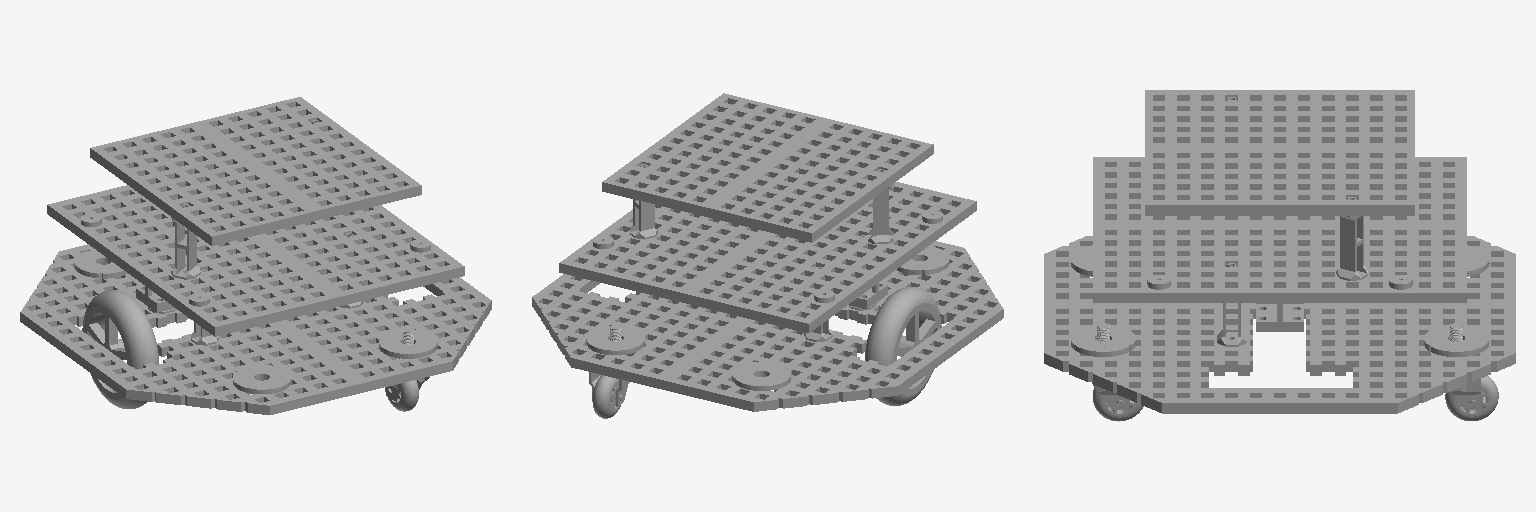
robot.urdf — XiAMS_V1:
<?xml version="1.0" ?>
<!-- =================================================================================== -->
<!-- |    This document was autogenerated by xacro from XiAMS_V1.xacro                 | -->
<!-- |    EDITING THIS FILE BY HAND IS NOT RECOMMENDED                                 | -->
<!-- =================================================================================== -->
<robot name="XiAMS_V1">
  <material name="silver">
    <color rgba="0.700 0.700 0.700 1.000"/>
  </material>
  <transmission name="Revolute 1_tran">
    <type>transmission_interface/SimpleTransmission</type>
    <joint name="Revolute 1">
      <hardwareInterface>hardware_interface/EffortJointInterface</hardwareInterface>
    </joint>
    <actuator name="Revolute 1_actr">
      <hardwareInterface>hardware_interface/EffortJointInterface</hardwareInterface>
      <mechanicalReduction>1</mechanicalReduction>
    </actuator>
  </transmission>
  <transmission name="Revolute 2_tran">
    <type>transmission_interface/SimpleTransmission</type>
    <joint name="Revolute 2">
      <hardwareInterface>hardware_interface/EffortJointInterface</hardwareInterface>
    </joint>
    <actuator name="Revolute 2_actr">
      <hardwareInterface>hardware_interface/EffortJointInterface</hardwareInterface>
      <mechanicalReduction>1</mechanicalReduction>
    </actuator>
  </transmission>
<!--   <gazebo>
    <plugin filename="libgazebo_ros_control.so" name="control"/>
  </gazebo> -->
<!--   <gazebo reference="base_link">
    <material>Gazebo/Silver</material>
    <mu1>0.2</mu1>
    <mu2>0.2</mu2>
    <selfCollide>true</selfCollide>
    <gravity>true</gravity>
  </gazebo>
  <gazebo reference="left_wheel_1">
    <material>Gazebo/Silver</material>
    <mu1>0.2</mu1>
    <mu2>0.2</mu2>
    <selfCollide>true</selfCollide>
  </gazebo>
  <gazebo reference="right_wheel_1">
    <material>Gazebo/Silver</material>
    <mu1>0.2</mu1>
    <mu2>0.2</mu2>
    <selfCollide>true</selfCollide>
  </gazebo>
  <gazebo reference="right_motor_1">
    <material>Gazebo/Silver</material>  
    <mu1>0.2</mu1>
    <mu2>0.2</mu2>
    <selfCollide>true</selfCollide>
  </gazebo>
  <gazebo reference="left_motor_1">
    <material>Gazebo/Silver</material>
    <mu1>0.2</mu1>
    <mu2>0.2</mu2>
    <selfCollide>true</selfCollide>
  </gazebo> -->
<!--     <link name="map"/>
  <joint name="map_joint" type="fixed">
    <parent link="map"/>
    <child link="odom"/>
    <origin rpy="0 0 0" xyz="0.0 0.0 0.0"/>
  </joint> -->
  <!-- <link name="odom"/>
  <joint name="odom_joint" type="fixed">
    <parent link="odom"/>
    <child link="base_footprint"/>
    <origin rpy="0 0 0" xyz="0.0 0.0 0.0"/>
  </joint> -->
  <link name="base_footprint"/>
  <joint name="base_joint" type="fixed">
    <parent link="base_footprint"/>
    <child link="base_link"/>
    <origin rpy="0 0 0" xyz="0.0 0.0 0.05"/>
  </joint>
   <link name="imu_link"/>
  <joint name="imu_joint" type="fixed">
    <parent link="base_link"/>
    <child link="imu_link"/>
    <origin rpy="0 0 0" xyz="0.0 0.0 0.05"/>
  </joint>
  <!-- <link name="lidar_link_1"/>
  <joint name="lidar_joint" type="fixed">
    <parent link="base_link2_1"/>
    <child link="lidar_link_1"/>
    <origin rpy="0 0 0" xyz="0.0 0.0 0.045"/>
  </joint> -->
  <link name="base_link">
    <inertial>
      <origin rpy="0 0 0" xyz="-1.2122057928679926e-16 -5.497357486465651e-05 0.010376885485705058"/>
      <mass value="7.067644900814269"/>
      <inertia ixx="0.093666" ixy="0.0" ixz="-0.0" iyy="0.075527" iyz="-0.0" izz="0.169042"/>
    </inertial>
    <visual>
      <origin rpy="0 0 0" xyz="0 0 0"/>
      <geometry>
        <mesh filename="package://two_wheeled_robot/meshes/base_link.stl" scale="0.001 0.001 0.001"/>
      </geometry>
      <material name="silver"/>
    </visual>
    <collision>
      <origin rpy="0 0 0" xyz="0 0 0"/>
      <geometry>
        <mesh filename="package://two_wheeled_robot/meshes/base_link.stl" scale="0.001 0.001 0.001"/>
      </geometry>
    </collision>
  </link>
  <link name="left_wheel_1">
    <inertial>
      <origin rpy="0 0 0" xyz="-0.010316984778108496 -2.131945403625303e-15 1.734723475976807e-17"/>
      <mass value="1.2911020276896104"/>
      <inertia ixx="0.002581" ixy="0.0" ixz="0.0" iyy="0.001382" iyz="0.0" izz="0.001382"/>
    </inertial>
    <visual>
      <origin rpy="0 0 0" xyz="0.1379 -0.0 -0.004"/>
      <geometry>
        <mesh filename="package://two_wheeled_robot/meshes/left_wheel_1.stl" scale="0.001 0.001 0.001"/>
      </geometry>
      <material name="silver"/>
    </visual>
    <collision>
      <origin rpy="0 0 0" xyz="0.1379 -0.0 -0.004"/>
      <geometry>
        <mesh filename="package://two_wheeled_robot/meshes/left_wheel_1.stl" scale="0.001 0.001 0.001"/>
      </geometry>
    </collision>
  </link>
  <link name="right_wheel_1">
    <inertial>
      <origin rpy="0 0 0" xyz="0.010316984778108551 2.16747250653199e-15 3.729655473350135e-17"/>
      <mass value="1.2911020276896104"/>
      <inertia ixx="0.002581" ixy="0.0" ixz="-0.0" iyy="0.001382" iyz="-0.0" izz="0.001382"/>
    </inertial>
    <visual>
      <origin rpy="0 0 0" xyz="-0.1379 -0.0 -0.004"/>
      <geometry>
        <mesh filename="package://two_wheeled_robot/meshes/right_wheel_1.stl" scale="0.001 0.001 0.001"/>
      </geometry>
      <material name="silver"/>
    </visual>
    <collision>
      <origin rpy="0 0 0" xyz="-0.1379 -0.0 -0.004"/>
      <geometry>
        <mesh filename="package://two_wheeled_robot/meshes/right_wheel_1.stl" scale="0.001 0.001 0.001"/>
      </geometry>
    </collision>
  </link>
  <link name="right_motor_1">
    <inertial>
      <origin rpy="0 0 0" xyz="0.06241474724398801 -1.1016991190206776e-06 -0.003760243066514766"/>
      <mass value="0.8778384692401996"/>
      <inertia ixx="0.000207" ixy="0.0" ixz="-6.5e-05" iyy="0.000915" iyz="0.0" izz="0.000858"/>
    </inertial>
    <visual>
      <origin rpy="0 0 0" xyz="-0.01 -0.0 -0.01"/>
      <geometry>
        <mesh filename="package://two_wheeled_robot/meshes/right_motor_1.stl" scale="0.001 0.001 0.001"/>
      </geometry>
      <material name="silver"/>
    </visual>
    <collision>
      <origin rpy="0 0 0" xyz="-0.01 -0.0 -0.01"/>
      <geometry>
        <mesh filename="package://two_wheeled_robot/meshes/right_motor_1.stl" scale="0.001 0.001 0.001"/>
      </geometry>
    </collision>
  </link>
  <link name="left_motor_1">
    <inertial>
      <origin rpy="0 0 0" xyz="-0.062414747243987996 1.101699119055656e-06 -0.003760243066514766"/>
      <mass value="0.8778384692401996"/>
      <inertia ixx="0.000207" ixy="0.0" ixz="6.5e-05" iyy="0.000915" iyz="-0.0" izz="0.000858"/>
    </inertial>
    <visual>
      <origin rpy="0 0 0" xyz="0.01 -0.0 -0.01"/>
      <geometry>
        <mesh filename="package://two_wheeled_robot/meshes/left_motor_1.stl" scale="0.001 0.001 0.001"/>
      </geometry>
      <material name="silver"/>
    </visual>
    <collision>
      <origin rpy="0 0 0" xyz="0.01 -0.0 -0.01"/>
      <geometry>
        <mesh filename="package://two_wheeled_robot/meshes/left_motor_1.stl" scale="0.001 0.001 0.001"/>
      </geometry>
    </collision>
  </link>
  <link name="sup_wheel_2_1">
    <inertial>
      <origin rpy="0 0 0" xyz="0.00724739238935411 -0.010120109660515852 -0.02715206764557417"/>
      <mass value="0.2827684462745871"/>
      <inertia ixx="0.000143" ixy="0.0" ixz="1e-06" iyy="0.000126" iyz="2.7e-05" izz="5.7e-05"/>
    </inertial>
    <visual>
      <origin rpy="0 0 0" xyz="-0.073333 -0.168856 -0.005"/>
      <geometry>
        <mesh filename="package://two_wheeled_robot/meshes/sup_wheel_2_1.stl" scale="0.001 0.001 0.001"/>
      </geometry>
      <material name="silver"/>
    </visual>
    <collision>
      <origin rpy="0 0 0" xyz="-0.073333 -0.168856 -0.005"/>
      <geometry>
        <mesh filename="package://two_wheeled_robot/meshes/sup_wheel_2_1.stl" scale="0.001 0.001 0.001"/>
      </geometry>
    </collision>
  </link>
  <link name="sup_wheel_1_1">
    <inertial>
      <origin rpy="0 0 0" xyz="0.02039356631856591 0.004831947677011422 -0.027152067645574162"/>
      <mass value="0.2827684462745871"/>
      <inertia ixx="0.000143" ixy="0.0" ixz="1e-06" iyy="0.000126" iyz="2.7e-05" izz="5.7e-05"/>
    </inertial>
    <visual>
      <origin rpy="0 0 0" xyz="0.099579 -0.154083 -0.005"/>
      <geometry>
        <mesh filename="package://two_wheeled_robot/meshes/sup_wheel_1_1.stl" scale="0.001 0.001 0.001"/>
      </geometry>
      <material name="silver"/>
    </visual>
    <collision>
      <origin rpy="0 0 0" xyz="0.099579 -0.154083 -0.005"/>
      <geometry>
        <mesh filename="package://two_wheeled_robot/meshes/sup_wheel_1_1.stl" scale="0.001 0.001 0.001"/>
      </geometry>
    </collision>
  </link>
  <link name="sup_wheel_3_1">
    <inertial>
      <origin rpy="0 0 0" xyz="0.000862792672768703 0.008679037903527004 -0.02715206764557417"/>
      <mass value="0.2827684462745871"/>
      <inertia ixx="0.000143" ixy="0.0" ixz="1e-06" iyy="0.000126" iyz="2.7e-05" izz="5.7e-05"/>
    </inertial>
    <visual>
      <origin rpy="0 0 0" xyz="0.08 0.15 -0.005"/>
      <geometry>
        <mesh filename="package://two_wheeled_robot/meshes/sup_wheel_3_1.stl" scale="0.001 0.001 0.001"/>
      </geometry>
      <material name="silver"/>
    </visual>
    <collision>
      <origin rpy="0 0 0" xyz="0.08 0.15 -0.005"/>
      <geometry>
        <mesh filename="package://two_wheeled_robot/meshes/sup_wheel_3_1.stl" scale="0.001 0.001 0.001"/>
      </geometry>
    </collision>
  </link>
  <link name="sup_wheel_4_1">
    <inertial>
      <origin rpy="0 0 0" xyz="0.000716440208126376 0.009226546426515103 -0.02715206764557417"/>
      <mass value="0.2827684462745871"/>
      <inertia ixx="0.000143" ixy="0.0" ixz="1e-06" iyy="0.000126" iyz="2.7e-05" izz="5.7e-05"/>
    </inertial>
    <visual>
      <origin rpy="0 0 0" xyz="-0.08 0.15 -0.005"/>
      <geometry>
        <mesh filename="package://two_wheeled_robot/meshes/sup_wheel_4_1.stl" scale="0.001 0.001 0.001"/>
      </geometry>
      <material name="silver"/>
    </visual>
    <collision>
      <origin rpy="0 0 0" xyz="-0.08 0.15 -0.005"/>
      <geometry>
        <mesh filename="package://two_wheeled_robot/meshes/sup_wheel_4_1.stl" scale="0.001 0.001 0.001"/>
      </geometry>
    </collision>
  </link>
  <link name="column_1_1">
    <inertial>
      <origin rpy="0 0 0" xyz="0.005150943149875242 0.00029975860448801933 0.032999999999999814"/>
      <mass value="0.06713817165430098"/>
      <inertia ixx="3.8e-05" ixy="-0.0" ixz="0.0" iyy="3.7e-05" iyz="-0.0" izz="5e-06"/>
    </inertial>
    <visual>
      <origin rpy="0 0 0" xyz="-0.073333 0.041053 -0.015"/>
      <geometry>
        <mesh filename="package://two_wheeled_robot/meshes/column_1_1.stl" scale="0.001 0.001 0.001"/>
      </geometry>
      <material name="silver"/>
    </visual>
    <collision>
      <origin rpy="0 0 0" xyz="-0.073333 0.041053 -0.015"/>
      <geometry>
        <mesh filename="package://two_wheeled_robot/meshes/column_1_1.stl" scale="0.001 0.001 0.001"/>
      </geometry>
    </collision>
  </link>
  <link name="column_2_1">
    <inertial>
      <origin rpy="0 0 0" xyz="-0.006043277250849216 0.00017198325512216006 0.030999999999999812"/>
      <mass value="0.06713817165430098"/>
      <inertia ixx="3.8e-05" ixy="-0.0" ixz="0.0" iyy="3.7e-05" iyz="-0.0" izz="5e-06"/>
    </inertial>
    <visual>
      <origin rpy="0 0 0" xyz="0.073333 0.041053 -0.015"/>
      <geometry>
        <mesh filename="package://two_wheeled_robot/meshes/column_2_1.stl" scale="0.001 0.001 0.001"/>
      </geometry>
      <material name="silver"/>
    </visual>
    <collision>
      <origin rpy="0 0 0" xyz="0.073333 0.041053 -0.015"/>
      <geometry>
        <mesh filename="package://two_wheeled_robot/meshes/column_2_1.stl" scale="0.001 0.001 0.001"/>
      </geometry>
    </collision>
  </link>
  <link name="column_3_1">
    <inertial>
      <origin rpy="0 0 0" xyz="-1.0459630267536935e-05 -0.015181423914343836 0.030999999999999812"/>
      <mass value="0.06713817165430098"/>
      <inertia ixx="3.8e-05" ixy="0.0" ixz="0.0" iyy="3.7e-05" iyz="-0.0" izz="5e-06"/>
    </inertial>
    <visual>
      <origin rpy="0 0 0" xyz="0.078889 -0.056316 -0.015"/>
      <geometry>
        <mesh filename="package://two_wheeled_robot/meshes/column_3_1.stl" scale="0.001 0.001 0.001"/>
      </geometry>
      <material name="silver"/>
    </visual>
    <collision>
      <origin rpy="0 0 0" xyz="0.078889 -0.056316 -0.015"/>
      <geometry>
        <mesh filename="package://two_wheeled_robot/meshes/column_3_1.stl" scale="0.001 0.001 0.001"/>
      </geometry>
    </collision>
  </link>
  <link name="column_4_1">
    <inertial>
      <origin rpy="0 0 0" xyz="-0.005999555555578892 -3.684210526447296e-07 0.030999999999999812"/>
      <mass value="0.06713817165430098"/>
      <inertia ixx="3.8e-05" ixy="-0.0" ixz="0.0" iyy="3.7e-05" iyz="-0.0" izz="5e-06"/>
    </inertial>
    <visual>
      <origin rpy="0 0 0" xyz="-0.084444 -0.041053 -0.015"/>
      <geometry>
        <mesh filename="package://two_wheeled_robot/meshes/column_4_1.stl" scale="0.001 0.001 0.001"/>
      </geometry>
      <material name="silver"/>
    </visual>
    <collision>
      <origin rpy="0 0 0" xyz="-0.084444 -0.041053 -0.015"/>
      <geometry>
        <mesh filename="package://two_wheeled_robot/meshes/column_4_1.stl" scale="0.001 0.001 0.001"/>
      </geometry>
    </collision>
  </link>
  <link name="base_link2_1">
    <inertial>
      <origin rpy="0 0 0" xyz="1.5416149327040268e-06 -7.385320557817198e-08 0.0644033025552961"/>
      <mass value="6.703012617628762"/>
      <inertia ixx="0.045857" ixy="0.0" ixz="0.0" iyy="0.040773" iyz="-0.0" izz="0.085176"/>
    </inertial>
    <visual>
      <origin rpy="0 0 0" xyz="-0.0 -0.0 -0.015"/>
      <geometry>
        <mesh filename="package://two_wheeled_robot/meshes/base_link2_1.stl" scale="0.001 0.001 0.001"/>
      </geometry>
      <material name="silver"/>
    </visual>
    <collision>
      <origin rpy="0 0 0" xyz="-0.0 -0.0 -0.015"/>
      <geometry>
        <mesh filename="package://two_wheeled_robot/meshes/base_link2_1.stl" scale="0.001 0.001 0.001"/>
      </geometry>
    </collision>
  </link>
  <link name="column_5_1">
    <inertial>
      <origin rpy="0 0 0" xyz="0.048050222222234255 0.0002503684210331328 -0.04300000000000004"/>
      <mass value="0.06861920498763414"/>
      <inertia ixx="3.8e-05" ixy="-0.0" ixz="0.0" iyy="3.9e-05" iyz="0.0" izz="5e-06"/>
    </inertial>
    <visual>
      <origin rpy="0 0 0" xyz="-0.052222 0.041053 -0.163"/>
      <geometry>
        <mesh filename="package://two_wheeled_robot/meshes/column_5_1.stl" scale="0.001 0.001 0.001"/>
      </geometry>
      <material name="silver"/>
    </visual>
    <collision>
      <origin rpy="0 0 0" xyz="-0.052222 0.041053 -0.163"/>
      <geometry>
        <mesh filename="package://two_wheeled_robot/meshes/column_5_1.stl" scale="0.001 0.001 0.001"/>
      </geometry>
    </collision>
  </link>
  <link name="column_6_1">
    <inertial>
      <origin rpy="0 0 0" xyz="-0.0424497777777972 -0.00490047368422257 -0.04300000000000004"/>
      <mass value="0.06861920498763414"/>
      <inertia ixx="3.9e-05" ixy="0.0" ixz="0.0" iyy="3.8e-05" iyz="-0.0" izz="5e-06"/>
    </inertial>
    <visual>
      <origin rpy="0 0 0" xyz="0.057778 0.035789 -0.163"/>
      <geometry>
        <mesh filename="package://two_wheeled_robot/meshes/column_6_1.stl" scale="0.001 0.001 0.001"/>
      </geometry>
      <material name="silver"/>
    </visual>
    <collision>
      <origin rpy="0 0 0" xyz="0.057778 0.035789 -0.163"/>
      <geometry>
        <mesh filename="package://two_wheeled_robot/meshes/column_6_1.stl" scale="0.001 0.001 0.001"/>
      </geometry>
    </collision>
  </link>
  <link name="column_7_1">
    <inertial>
      <origin rpy="0 0 0" xyz="0.042514934933003394 0.015040063199609752 -0.043000000000000094"/>
      <mass value="0.06713817165430098"/>
      <inertia ixx="3.7e-05" ixy="0.0" ixz="0.0" iyy="3.7e-05" iyz="-0.0" izz="5e-06"/>
    </inertial>
    <visual>
      <origin rpy="0 0 0" xyz="-0.057778 -0.046316 -0.163"/>
      <geometry>
        <mesh filename="package://two_wheeled_robot/meshes/column_7_1.stl" scale="0.001 0.001 0.001"/>
      </geometry>
      <material name="silver"/>
    </visual>
    <collision>
      <origin rpy="0 0 0" xyz="-0.057778 -0.046316 -0.163"/>
      <geometry>
        <mesh filename="package://two_wheeled_robot/meshes/column_7_1.stl" scale="0.001 0.001 0.001"/>
      </geometry>
    </collision>
  </link>
  <link name="column_8_1">
    <inertial>
      <origin rpy="0 0 0" xyz="-0.03628574207457701 6.19714320574602e-05 -0.043000000000000094"/>
      <mass value="0.06713817165430098"/>
      <inertia ixx="3.7e-05" ixy="-0.0" ixz="0.0" iyy="3.7e-05" iyz="-0.0" izz="5e-06"/>
    </inertial>
    <visual>
      <origin rpy="0 0 0" xyz="0.063333 -0.061579 -0.163"/>
      <geometry>
        <mesh filename="package://two_wheeled_robot/meshes/column_8_1.stl" scale="0.001 0.001 0.001"/>
      </geometry>
      <material name="silver"/>
    </visual>
    <collision>
      <origin rpy="0 0 0" xyz="0.063333 -0.061579 -0.163"/>
      <geometry>
        <mesh filename="package://two_wheeled_robot/meshes/column_8_1.stl" scale="0.001 0.001 0.001"/>
      </geometry>
    </collision>
  </link>
  <link name="base_link3_1">
    <inertial>
      <origin rpy="0 0 0" xyz="0.0 4.0481340199487946e-17 -0.006999999999999923"/>
      <mass value="3.142708479532165"/>
      <inertia ixx="0.014068" ixy="0.0" ixz="0.0" iyy="0.01405" iyz="-0.0" izz="0.028066"/>
    </inertial>
    <visual>
      <origin rpy="0 0 0" xyz="-0.0 0.0 -0.163"/>
      <geometry>
        <mesh filename="package://two_wheeled_robot/meshes/base_link3_1.stl" scale="0.001 0.001 0.001"/>
      </geometry>
      <material name="silver"/>
    </visual>
    <collision>
      <origin rpy="0 0 0" xyz="-0.0 0.0 -0.163"/>
      <geometry>
        <mesh filename="package://two_wheeled_robot/meshes/base_link3_1.stl" scale="0.001 0.001 0.001"/>
      </geometry>
    </collision>
  </link>
  <link name="laser_link">
    <inertial>
      <origin rpy="0 0 0" xyz="0.00027795145072157185 -3.487106368435207e-05 0.019472184630013295"/>
      <mass value="1.2342397492534263"/>
      <inertia ixx="0.000557" ixy="1e-06" ixz="-4e-06" iyy="0.000545" iyz="-2e-06" izz="0.000781"/>
    </inertial>
    <visual>
      <origin rpy="0 0 0" xyz="-0.0 -0.0 -0.089"/>
      <geometry>
        <mesh filename="package://two_wheeled_robot/meshes/lidar_link_1.stl" scale="0.001 0.001 0.001"/>
      </geometry>
      <material name="silver"/>
    </visual>
    <collision>
      <origin rpy="0 0 0" xyz="-0.0 -0.0 -0.089"/>
      <geometry>
        <mesh filename="package://two_wheeled_robot/meshes/lidar_link_1.stl" scale="0.001 0.001 0.001"/>
      </geometry>
    </collision>
  </link>
  <joint name="Revolute 1" type="continuous">
    <origin rpy="0 0 0" xyz="-0.1279 0.0 -0.006"/>
    <parent link="left_motor_1"/>
    <child link="left_wheel_1"/>
    <axis xyz="-1.0 0.0 0.0"/>
  </joint>
  <joint name="Revolute 2" type="continuous">
    <origin rpy="0 0 0" xyz="0.1279 0.0 -0.006"/>
    <parent link="right_motor_1"/>
    <child link="right_wheel_1"/>
    <axis xyz="1.0 0.0 0.0"/>
  </joint>
  <joint name="Rigid 3" type="fixed">
    <origin rpy="0 0 0" xyz="0.01 0.0 0.01"/>
    <parent link="base_link"/>
    <child link="right_motor_1"/>
  </joint>
  <joint name="Rigid 4" type="fixed">
    <origin rpy="0 0 0" xyz="-0.01 0.0 0.01"/>
    <parent link="base_link"/>
    <child link="left_motor_1"/>
  </joint>
  <joint name="Rigid 6" type="fixed">
    <origin rpy="0 0 0" xyz="0.073333 0.168856 0.005"/>
    <parent link="base_link"/>
    <child link="sup_wheel_2_1"/>
  </joint>
  <joint name="Rigid 7" type="fixed">
    <origin rpy="0 0 0" xyz="-0.099579 0.154083 0.005"/>
    <parent link="base_link"/>
    <child link="sup_wheel_1_1"/>
  </joint>
  <joint name="Rigid 8" type="fixed">
    <origin rpy="0 0 0" xyz="-0.08 -0.15 0.005"/>
    <parent link="base_link"/>
    <child link="sup_wheel_3_1"/>
  </joint>
  <joint name="Rigid 9" type="fixed">
    <origin rpy="0 0 0" xyz="0.08 -0.15 0.005"/>
    <parent link="base_link"/>
    <child link="sup_wheel_4_1"/>
  </joint>
  <joint name="Rigid 11" type="fixed">
    <origin rpy="0 0 0" xyz="0.073333 -0.041053 0.015"/>
    <parent link="base_link"/>
    <child link="column_1_1"/>
  </joint>
  <joint name="Rigid 12" type="fixed">
    <origin rpy="0 0 0" xyz="-0.073333 -0.041053 0.015"/>
    <parent link="base_link"/>
    <child link="column_2_1"/>
  </joint>
  <joint name="Rigid 13" type="fixed">
    <origin rpy="0 0 0" xyz="-0.078889 0.056316 0.015"/>
    <parent link="base_link"/>
    <child link="column_3_1"/>
  </joint>
  <joint name="Rigid 15" type="fixed">
    <origin rpy="0 0 0" xyz="0.084444 0.041053 0.015"/>
    <parent link="base_link"/>
    <child link="column_4_1"/>
  </joint>
  <joint name="Rigid 16" type="fixed">
    <origin rpy="0 0 0" xyz="0.0 0.0 0.015"/>
    <parent link="base_link"/>
    <child link="base_link2_1"/>
  </joint>
  <joint name="Rigid 17" type="fixed">
    <origin rpy="0 0 0" xyz="0.052222 -0.041053 0.148"/>
    <parent link="base_link2_1"/>
    <child link="column_5_1"/>
  </joint>
  <joint name="Rigid 18" type="fixed">
    <origin rpy="0 0 0" xyz="-0.057778 -0.035789 0.148"/>
    <parent link="base_link2_1"/>
    <child link="column_6_1"/>
  </joint>
  <joint name="Rigid 19" type="fixed">
    <origin rpy="0 0 0" xyz="0.057778 0.046316 0.148"/>
    <parent link="base_link2_1"/>
    <child link="column_7_1"/>
  </joint>
  <joint name="Rigid 20" type="fixed">
    <origin rpy="0 0 0" xyz="-0.063333 0.061579 0.148"/>
    <parent link="base_link2_1"/>
    <child link="column_8_1"/>
  </joint>
  <joint name="Rigid 21" type="fixed">
    <origin rpy="0 0 0" xyz="0.0 -0.0 0.148"/>
    <parent link="base_link2_1"/>
    <child link="base_link3_1"/>
  </joint>
  <joint name="Rigid 22" type="fixed">
    <origin rpy="0 0 0" xyz="0.0 0.0 0.224"/>
    <parent link="base_link"/>
    <child link="laser_link"/>
  </joint>
</robot>

--- What the picture shows (computed from the rendered views, not written in the file) ---
3 views of the same robot in one strip: view 1: azimuth 30°, elevation 25°; view 2: azimuth 150°, elevation 25°; view 3: azimuth 270°, elevation 25° (orthographic).
Robot: XiAMS_V1 — 22 links, 21 joints (2 continuous, 19 fixed); root link base_footprint; default pose: every joint at zero.
Visible links, largest first — view 1: base_link, base_link2_1, base_link3_1, left_wheel_1, column_6_1, sup_wheel_4_1; view 2: base_link, base_link2_1, base_link3_1, left_wheel_1, sup_wheel_2_1, column_6_1, column_7_1; view 3: base_link, base_link2_1, base_link3_1, sup_wheel_2_1, column_7_1, sup_wheel_4_1, column_1_1.
Link boxes in pixels (box(x1,y1,x2,y2)): base_link: box(20, 244, 491, 414); base_link2_1: box(47, 185, 464, 336); base_link3_1: box(90, 97, 421, 245); left_wheel_1: box(82, 290, 158, 408); column_6_1: box(171, 204, 200, 279); sup_wheel_4_1: box(385, 328, 429, 411); base_link: box(532, 241, 1003, 411); base_link2_1: box(559, 182, 976, 332); base_link3_1: box(602, 93, 933, 242); left_wheel_1: box(865, 287, 941, 405); sup_wheel_2_1: box(589, 325, 629, 418); column_6_1: box(868, 169, 893, 243); column_7_1: box(630, 164, 657, 239); base_link: box(1044, 236, 1515, 413); base_link2_1: box(1093, 157, 1466, 331); base_link3_1: box(1145, 90, 1414, 215); sup_wheel_2_1: box(1445, 323, 1498, 420); column_7_1: box(1336, 197, 1367, 280); sup_wheel_4_1: box(1092, 323, 1143, 421); column_1_1: box(1217, 263, 1246, 346).
Size in the robot's own frame: 0.4 by 0.4 by 0.2179 metres.
Meshes: 20 distinct files referenced, 11 mesh visuals loaded (11 binary STL); not drawn: 9 (file found but could not be loaded).